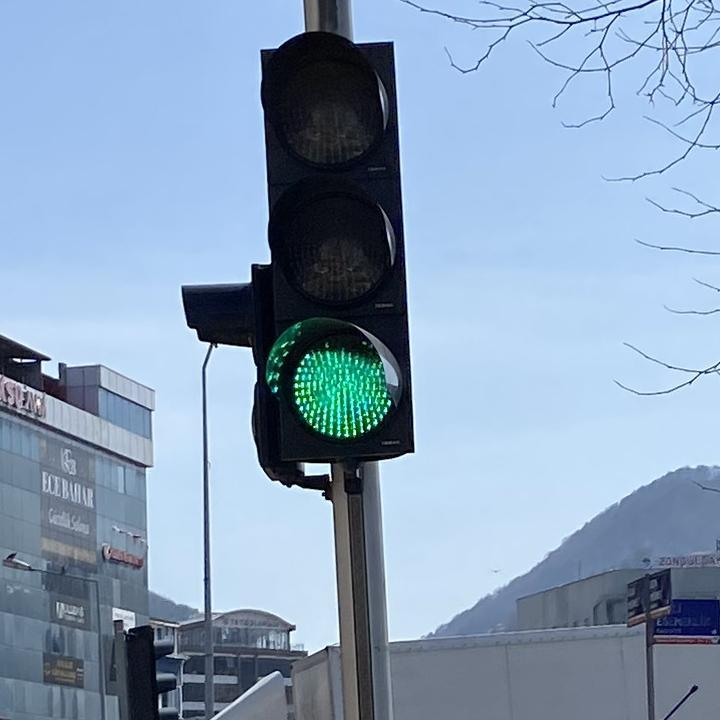green: (255, 29, 414, 462)
